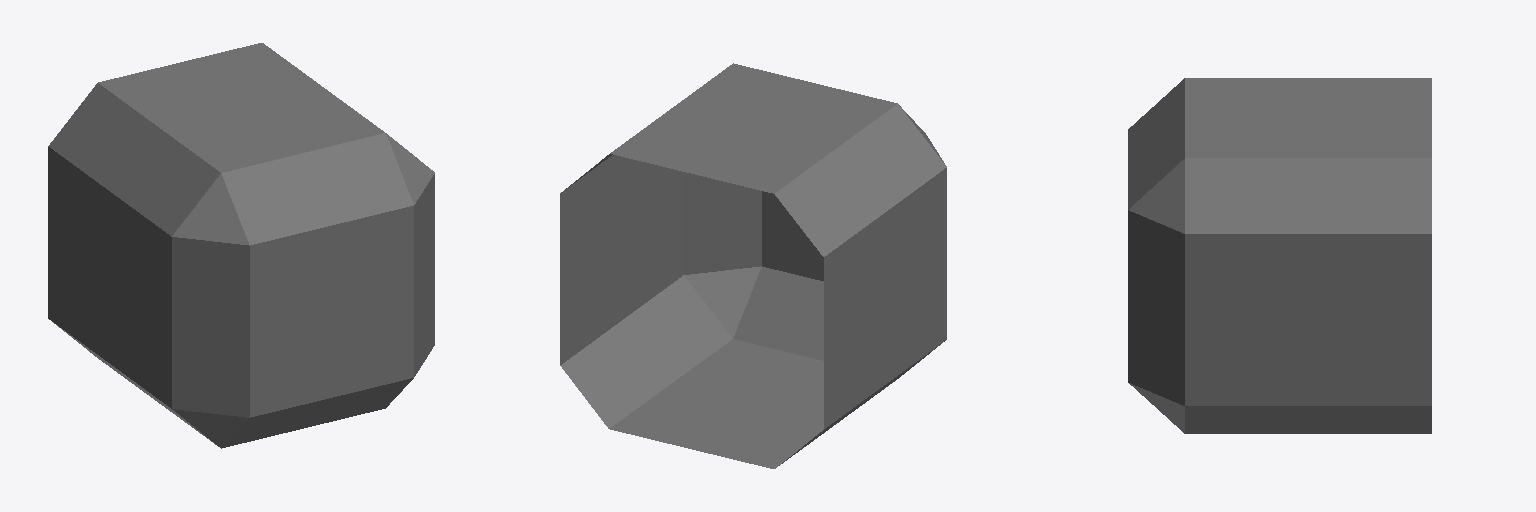
The model's file is end_single.obj.
3 renders of one model, left to right at view 1: azimuth 30°, elevation 25°; view 2: azimuth 150°, elevation 25°; view 3: azimuth 270°, elevation 25°, orthographic.
Size of the model in its own units: 1 by 1 by 1.